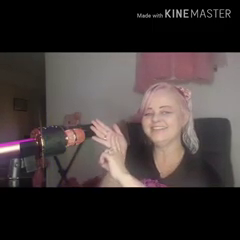N: (86, 113, 132, 180)
